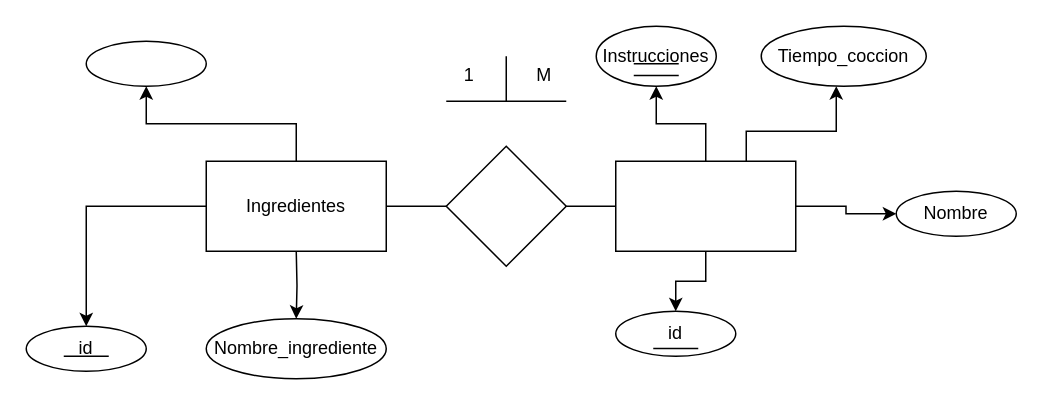
Some shapes in this 1043 by 405 pixel diagram are drawn without their labels. The shapes that lost their labels are listed below. From the top down, each one's centre as x and y in pixels, then its label:
At (145,63): "Categoria".
At (505,205): "Contiene".
At (705,205): "Recetas".
